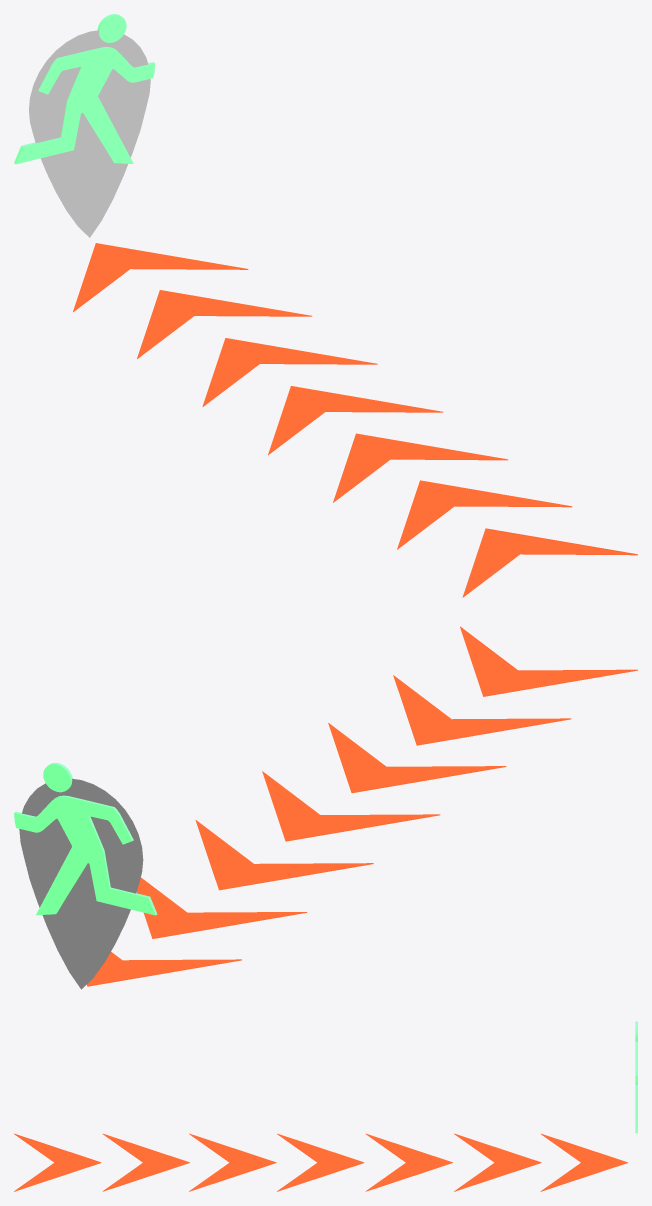
Rendered from Evacuation_path.fbx.
The picture shows the model from 3 angles, top to bottom: view 1: azimuth 30°, elevation 25°; view 2: azimuth 150°, elevation 25°; view 3: azimuth 270°, elevation 25°; orthographic projection. The views are drawn at different scales.
Visible parts, largest first — view 1: Plane.004; view 2: Plane.004; view 3: Plane.004.
Boxes of the visible parts, x1,y1,x2,y2 form: Plane.004: [14, 14, 637, 597]; Plane.004: [14, 626, 637, 989]; Plane.004: [14, 1021, 637, 1191].
Size of the model in its own units: 200 by 238 by 913.
